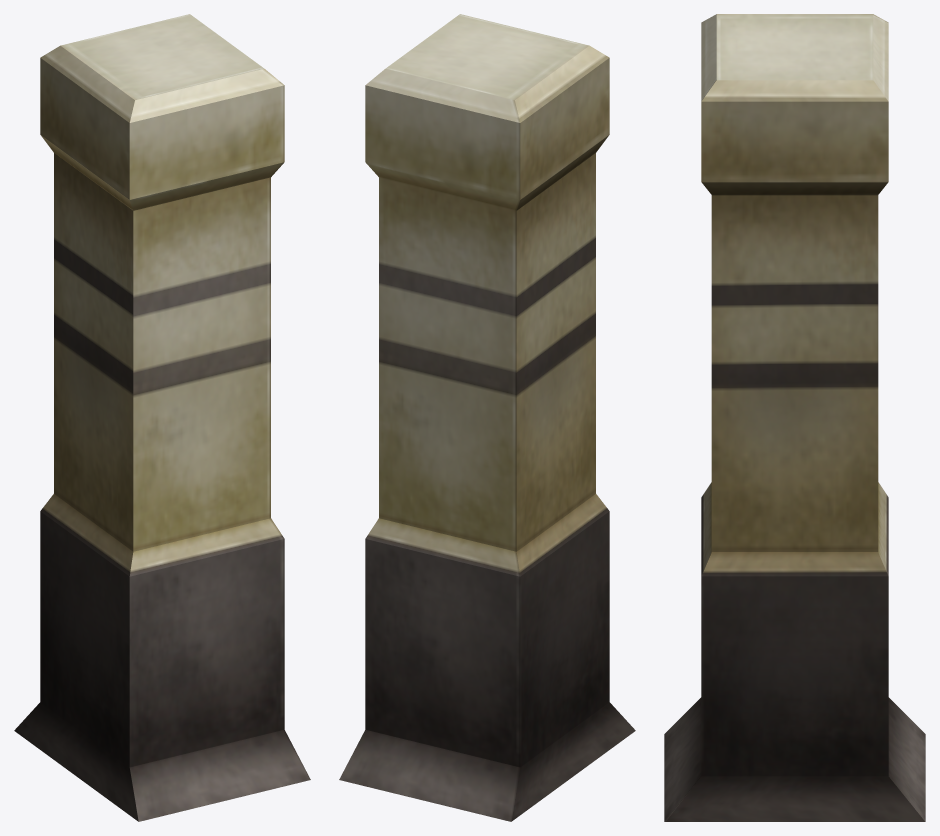
The model's file is a_SWTwall02.glb.
3 renders of one model, left to right at view 1: azimuth 30°, elevation 25°; view 2: azimuth 150°, elevation 25°; view 3: azimuth 270°, elevation 25°, orthographic. The views are drawn at different scales.
Visible parts, largest first — view 1: a_SWTwall02; view 2: a_SWTwall02; view 3: a_SWTwall02.
Part boxes in pixels (left/top/right/bottom): a_SWTwall02: left=14, top=14, right=310, bottom=821; a_SWTwall02: left=339, top=14, right=635, bottom=821; a_SWTwall02: left=664, top=14, right=925, bottom=821.
Bounding box in the file's own units: 0.7753 × 3 × 0.9721.
Materials: 1 (1 with a texture image).
